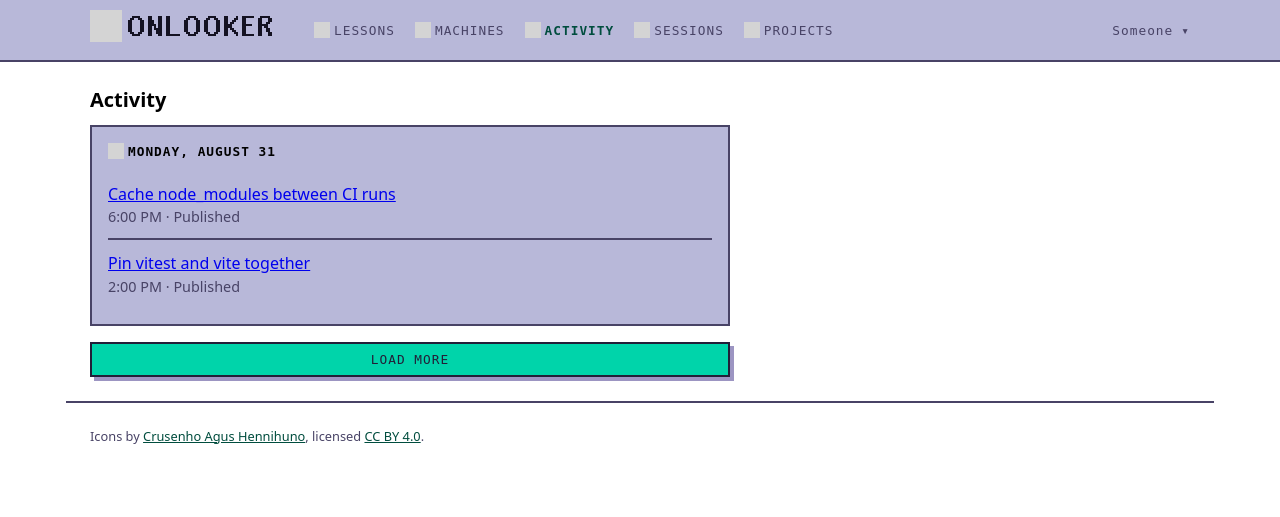
/activity pagination › appends the next page and retires the button when the feed ends
The image size is (1280, 517).
Step 1. Click the button "Load more" → (410, 359), box [90,342,730,377]
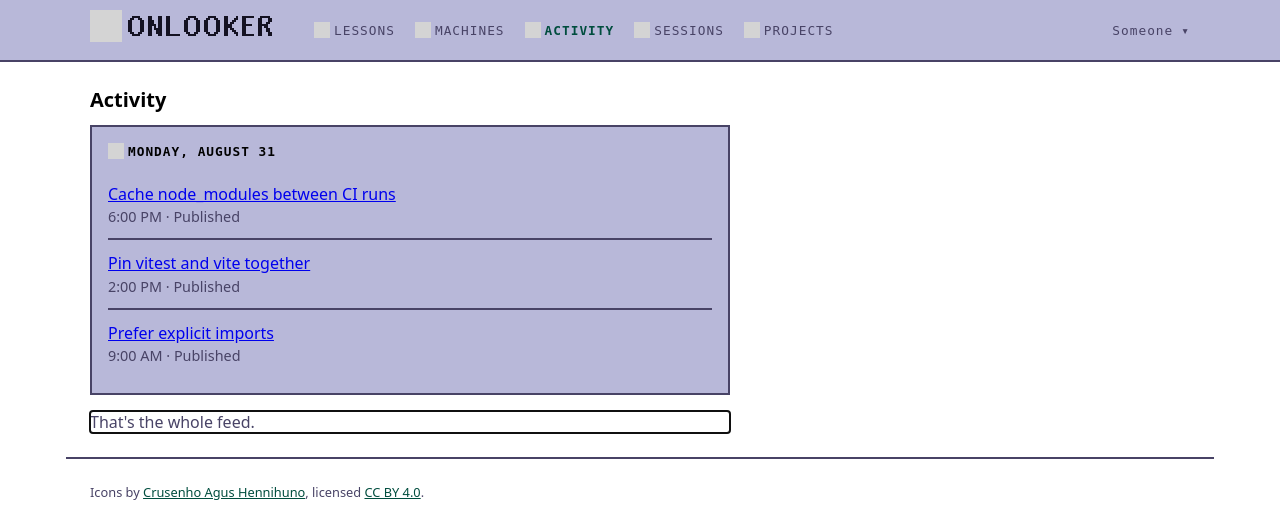
Expected: the link "Cache node_modules between CI runs" is shown, [108,183,396,205]
Now the link "Prefer explicit imports" is shown, box [108,322,274,344]
Now the button "Load more" is gone
